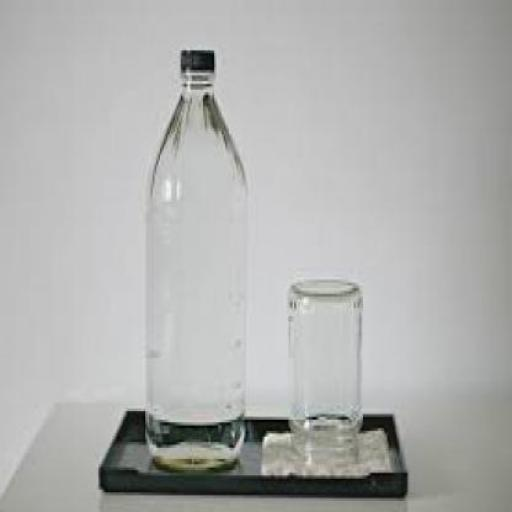glass: (147, 64, 249, 470), (292, 280, 365, 465)
metal: (183, 47, 217, 67)
